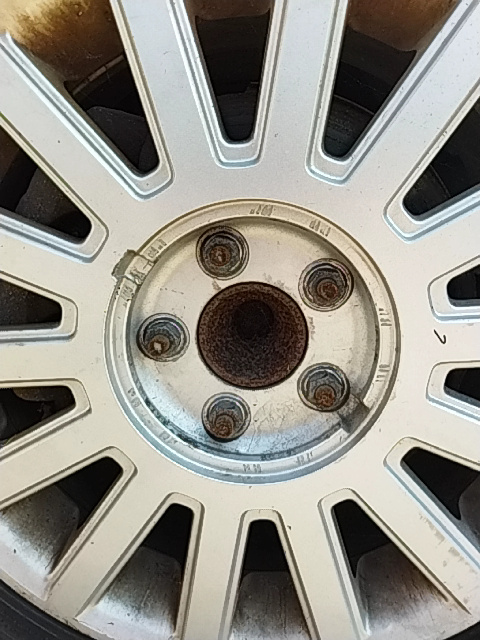l: (191, 378, 254, 452), (290, 356, 357, 420), (296, 251, 356, 322), (188, 220, 253, 285), (132, 307, 189, 370)
